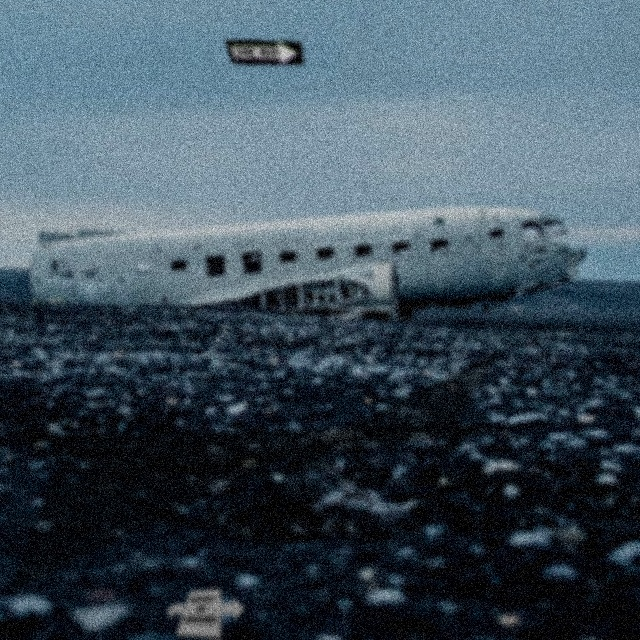DO_NOT_GO_AROUND: (166, 588, 246, 639)
ONE_WAY_ right: (224, 39, 304, 65)
